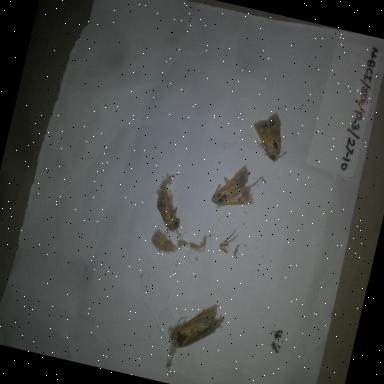abw: (140, 169, 204, 242), (164, 292, 230, 360), (208, 156, 272, 222), (244, 100, 299, 169)
